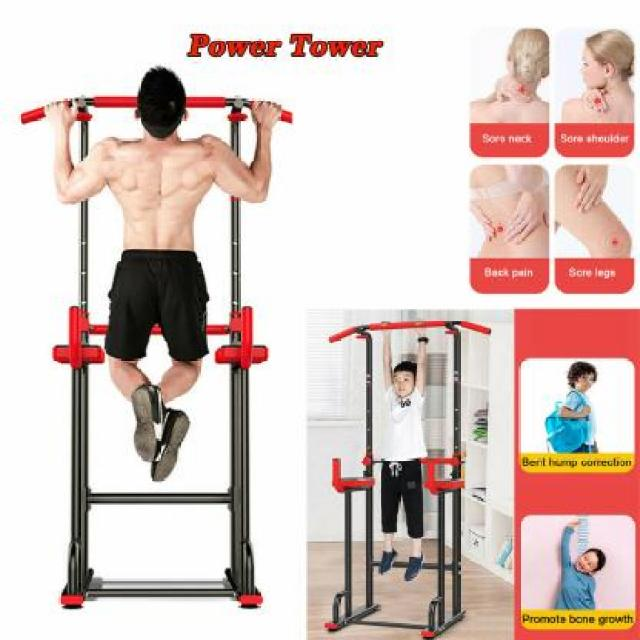chinning dipping: (19, 97, 292, 611)
